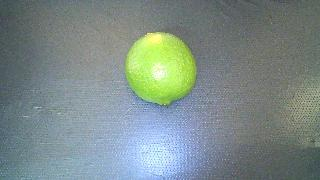EXPORTACION: (125, 32, 197, 106)
